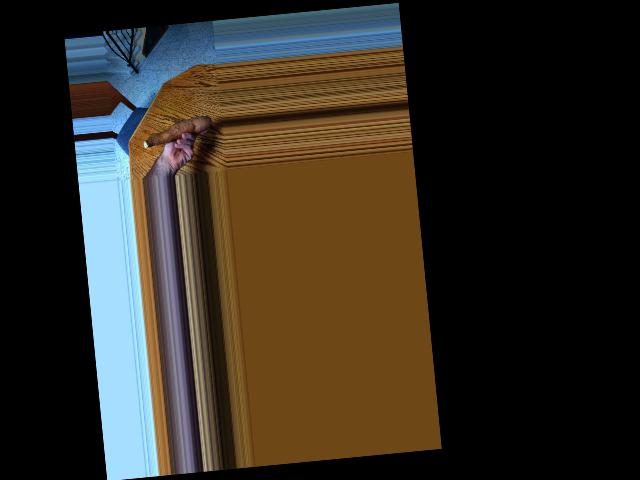sweet_potato: (140, 114, 214, 151)
